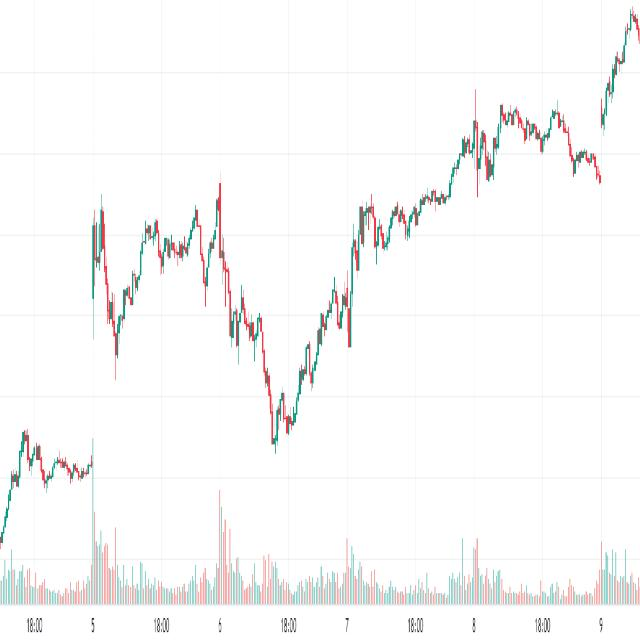Double-Bottom: (263, 351, 304, 458)
Inverse-Head-Shoulders: (216, 163, 364, 514)
